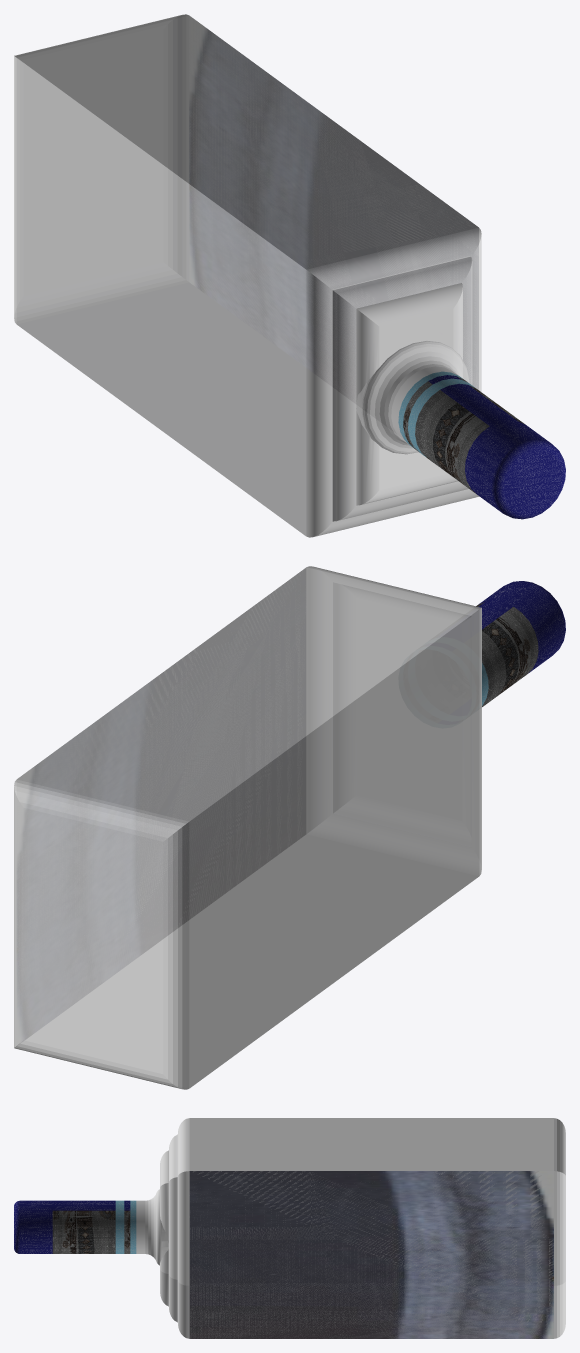
Rendered from model_align.obj.
The picture shows the model from 3 angles, top to bottom: view 1: azimuth 30°, elevation 25°; view 2: azimuth 150°, elevation 25°; view 3: azimuth 270°, elevation 25°; orthographic projection. The views are drawn at different scales.
Visible parts, largest first — view 1: mesh1_mesh1-geometry; view 2: mesh1_mesh1-geometry; view 3: mesh1_mesh1-geometry.
Part boxes in pixels (left/top/right/bottom): mesh1_mesh1-geometry: left=14, top=14, right=565, bottom=537; mesh1_mesh1-geometry: left=14, top=566, right=565, bottom=1089; mesh1_mesh1-geometry: left=14, top=1118, right=565, bottom=1338.
Bounding box in the file's own units: 0.0365 × 0.0539 × 0.1606.
